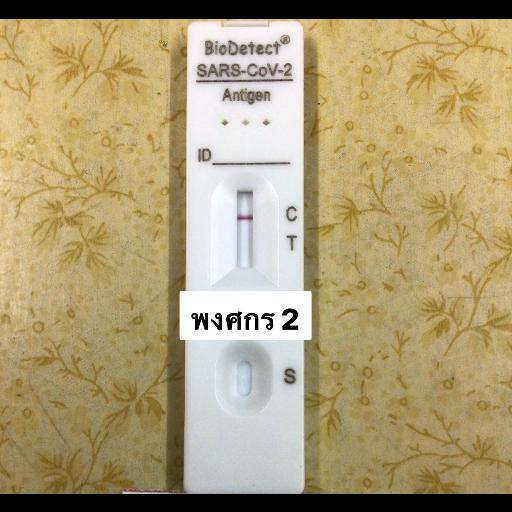Neg: (186, 20, 304, 492)
